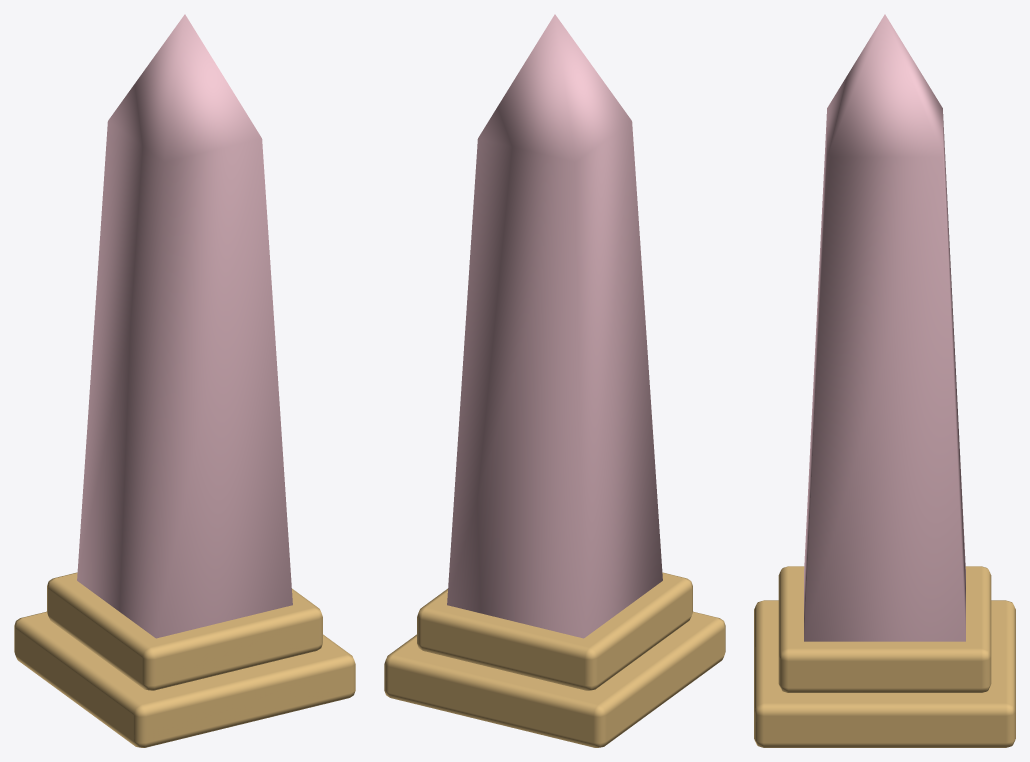
File: Rose_Quartz_Obelisk.fbx
The picture shows the model from 3 angles, left to right: view 1: azimuth 30°, elevation 25°; view 2: azimuth 150°, elevation 25°; view 3: azimuth 270°, elevation 25°; orthographic projection. The views are drawn at different scales.
Visible parts, largest first — view 1: Rose_Quartz_Obelisk_Mesh; view 2: Rose_Quartz_Obelisk_Mesh; view 3: Rose_Quartz_Obelisk_Mesh.
Boxes of the visible parts, bbox=[...] form: Rose_Quartz_Obelisk_Mesh: bbox=[14, 14, 355, 747]; Rose_Quartz_Obelisk_Mesh: bbox=[384, 14, 725, 747]; Rose_Quartz_Obelisk_Mesh: bbox=[754, 14, 1015, 747].
Size of the model in its own units: 0.08 by 0.23 by 0.08.
